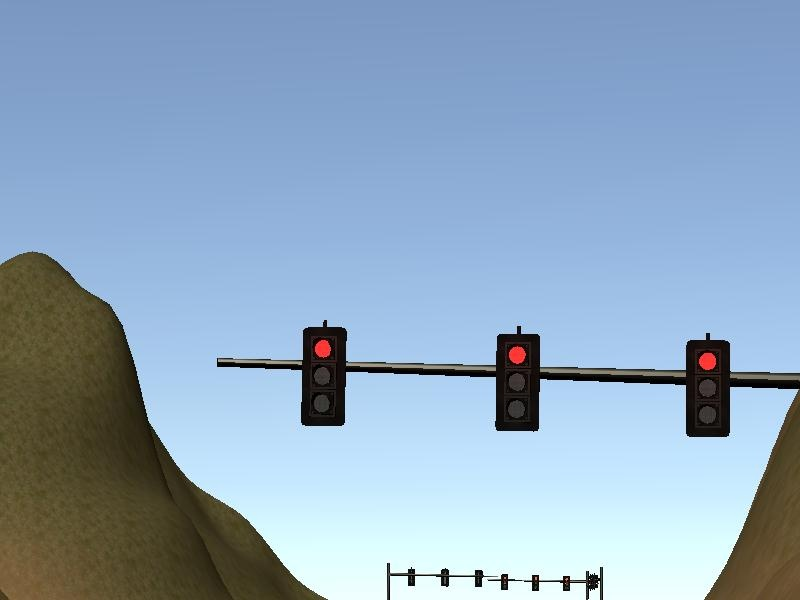RED: (300, 327, 345, 426), (495, 332, 540, 431), (684, 340, 729, 439)
